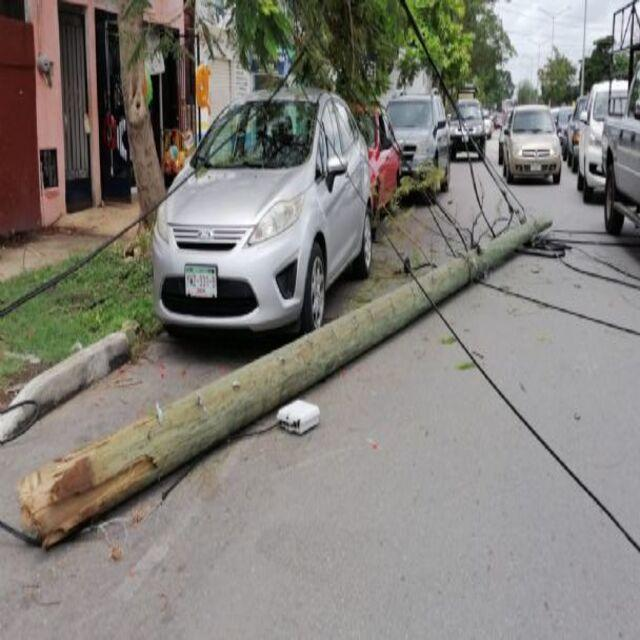Inclined Pole: (6, 208, 559, 557)
